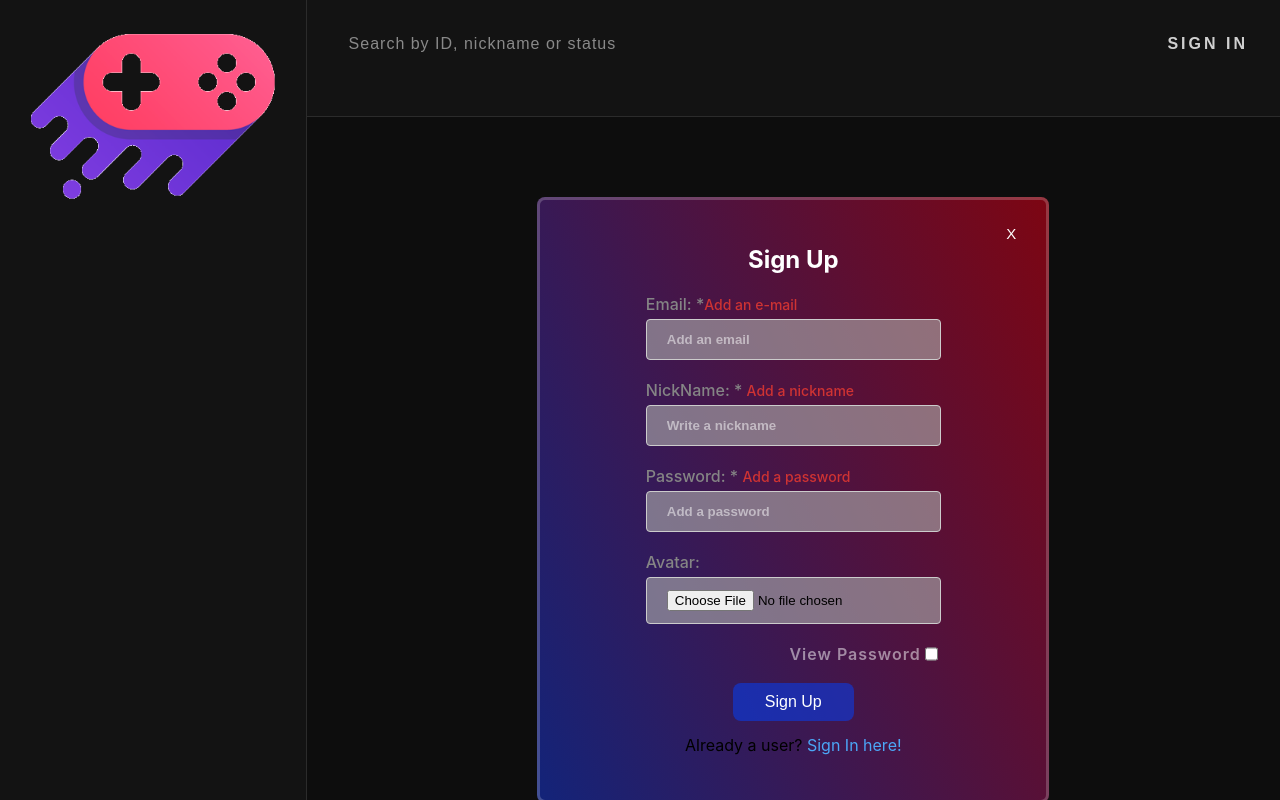
Test: Render the Login › Sign In Form: Check exist inputs
Click the text "Sign In here!" at (855, 745), box [807,735,902,755]
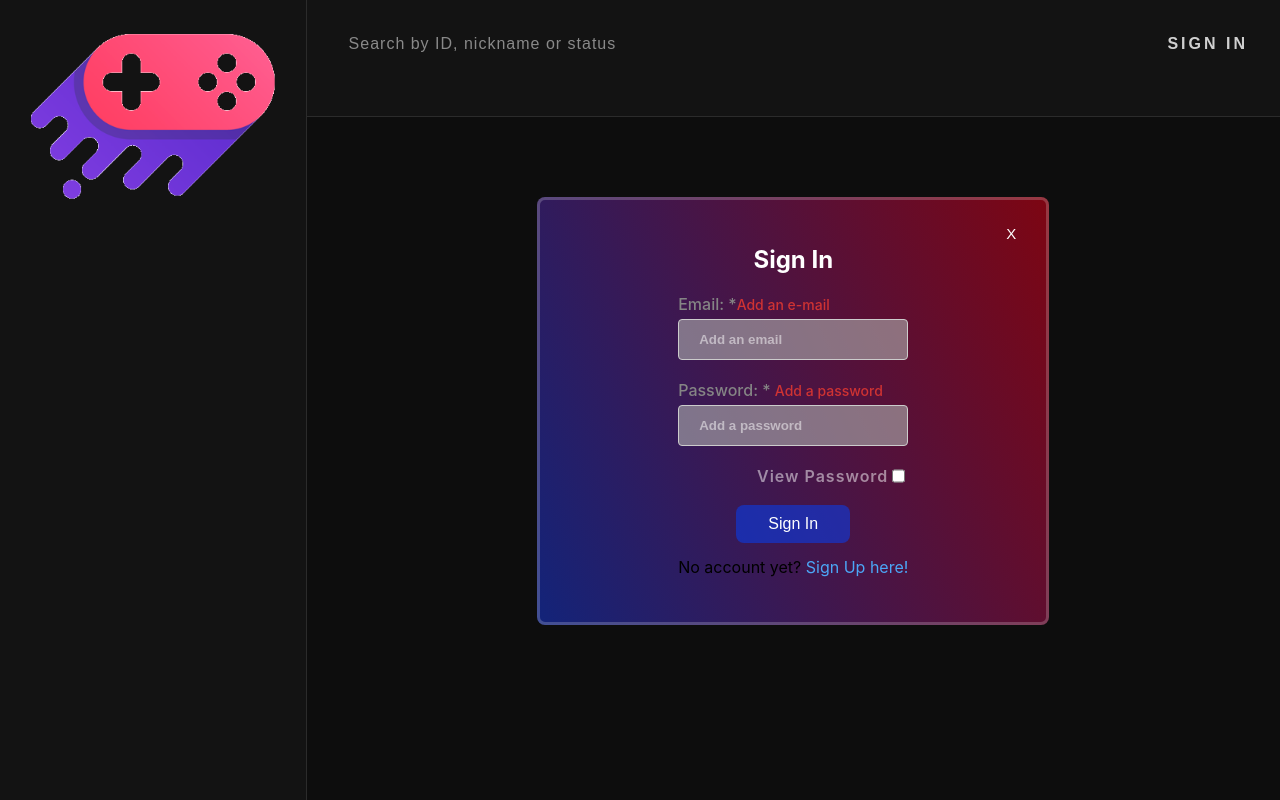
Check: the field named "email" is shown, box [678,319,908,360]
Check: the field named "nickname" is gone
Check: the text "Sign Up here!" is shown, box [806,557,908,577]
